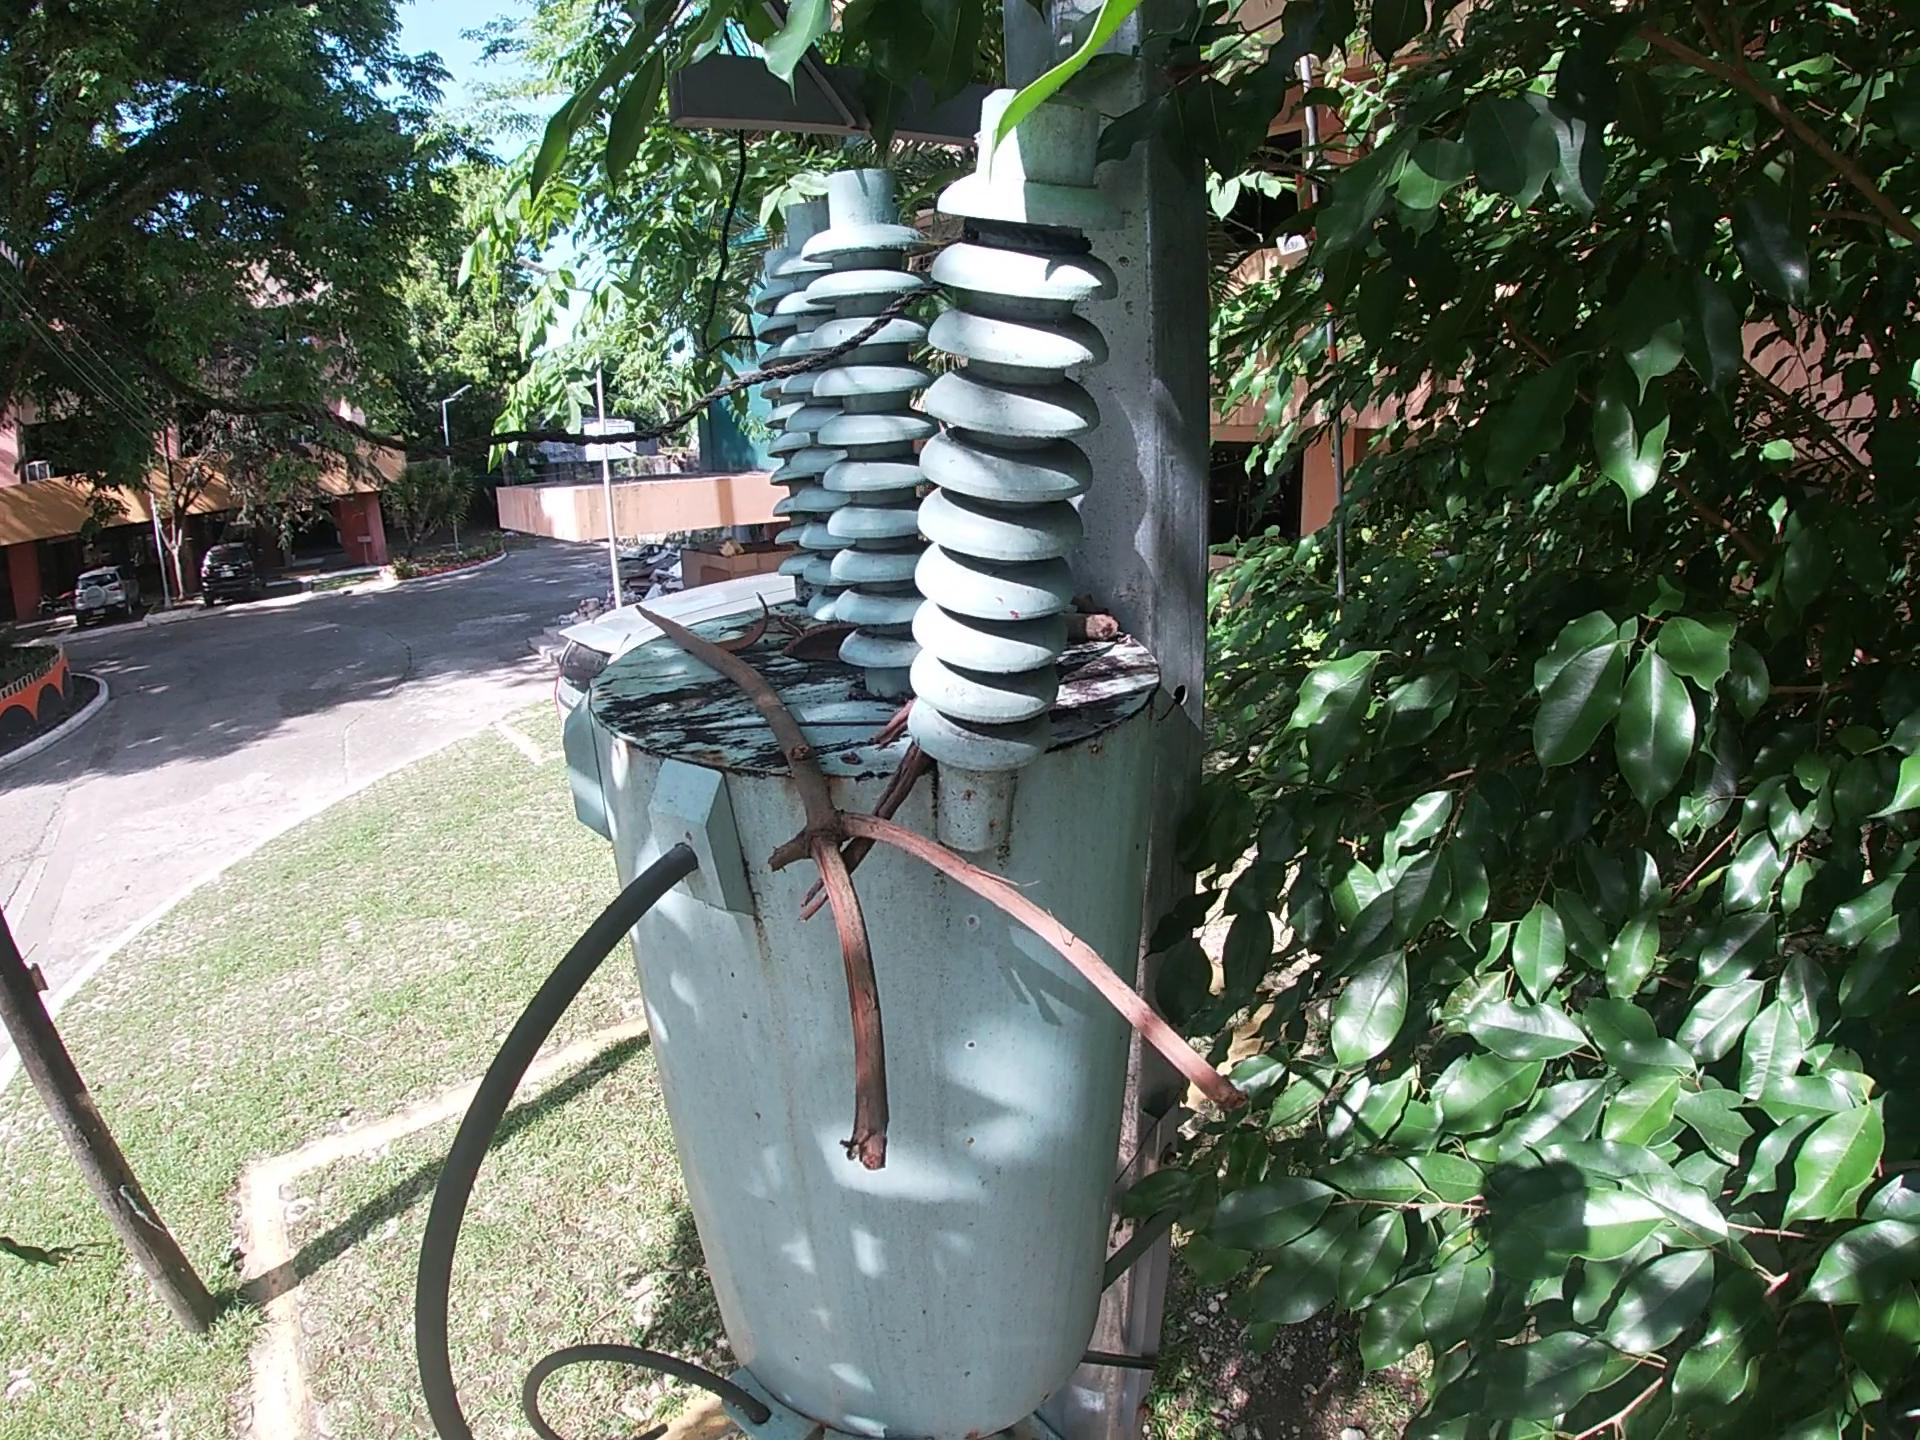mahogany fruit: (774, 632, 853, 672), (729, 591, 774, 650)
tree branch: (626, 587, 1262, 1184), (780, 746, 915, 927), (847, 711, 909, 753), (1063, 617, 1126, 638)
